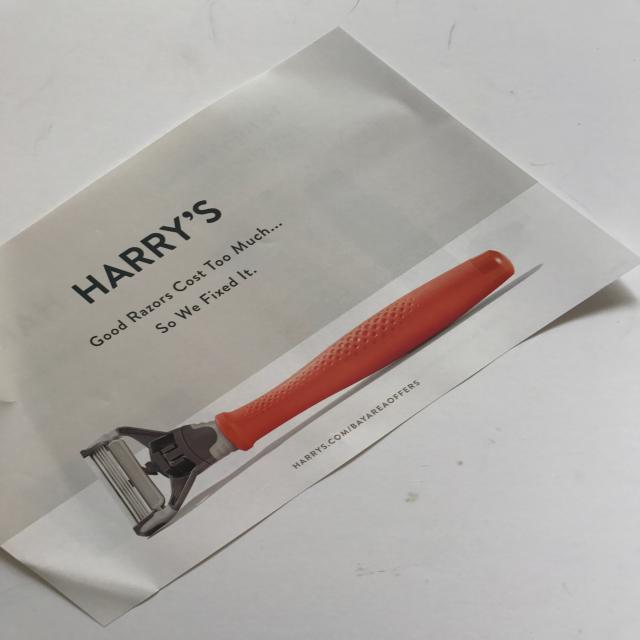paper: (1, 23, 638, 630)
